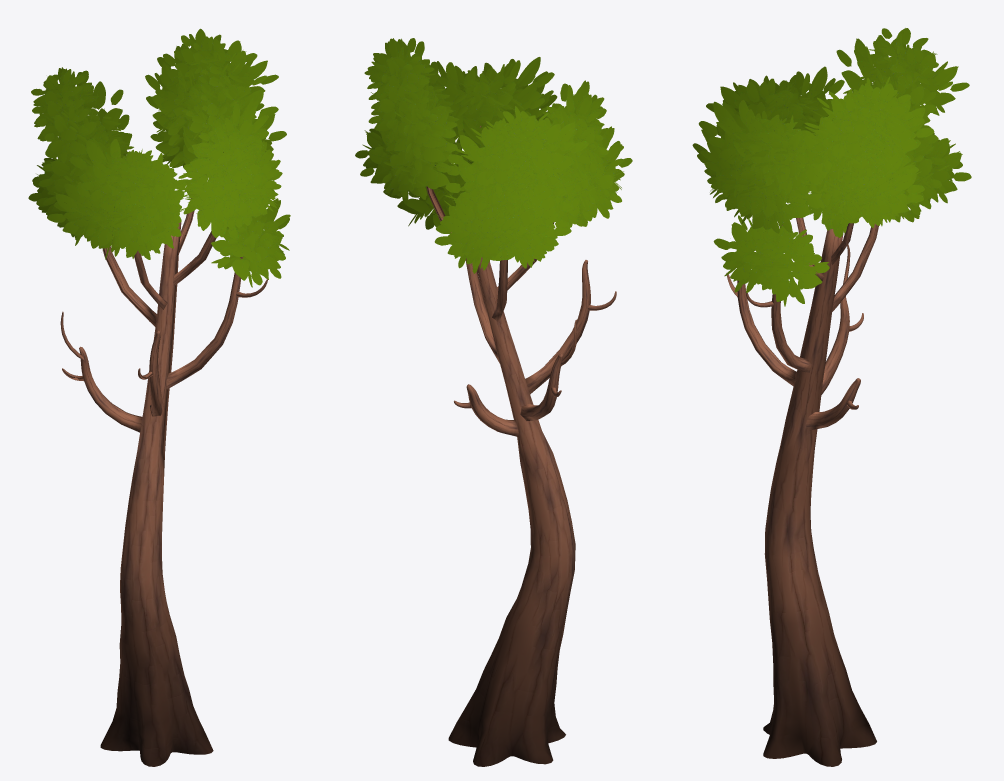
File: CommonTree_4.glb
3 renders of one model, left to right at view 1: azimuth 30°, elevation 25°; view 2: azimuth 150°, elevation 25°; view 3: azimuth 270°, elevation 25°, orthographic. The views are drawn at different scales.
Visible parts, largest first — view 1: CommonTree_4; view 2: CommonTree_4; view 3: CommonTree_4.
Boxes of the visible parts, <box> form: CommonTree_4: <box>28,28,290,766</box>; CommonTree_4: <box>355,38,632,766</box>; CommonTree_4: <box>692,28,971,766</box>.
Bounding box in the file's own units: 3.83 × 9.44 × 3.76.
Materials: 2 (2 with a texture image).
